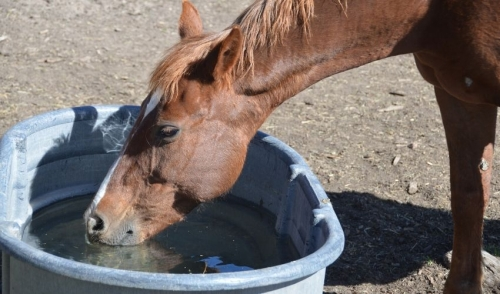Horse: (74, 15, 490, 255)
